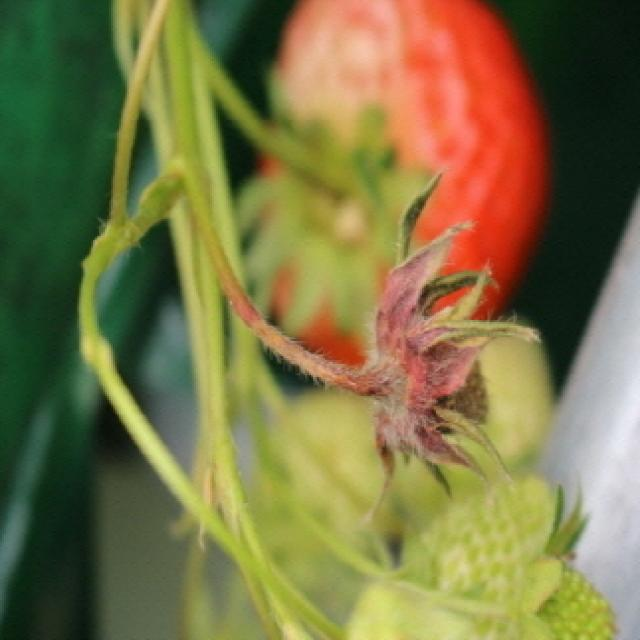Gray Mold: (277, 170, 545, 517)
